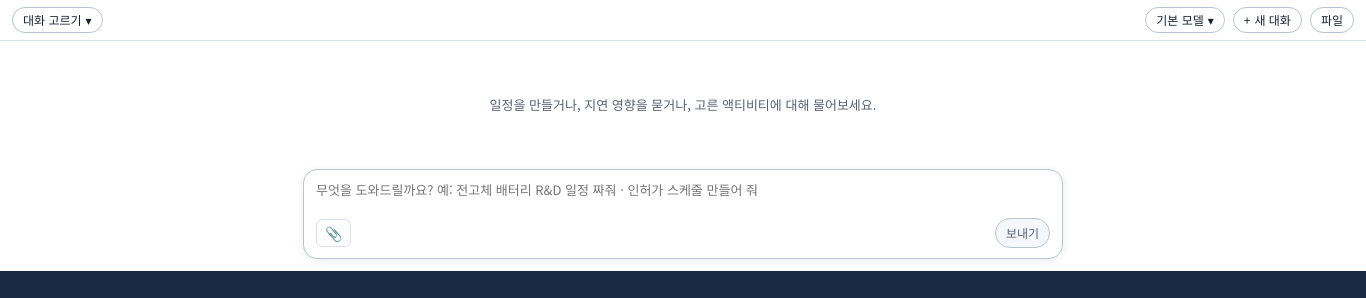
a dropped connection keeps what arrived and says so
Type "q" into the text box named "에이전트에게 요청".
click(683, 199); type("q")  # box [316,180,1050,218]
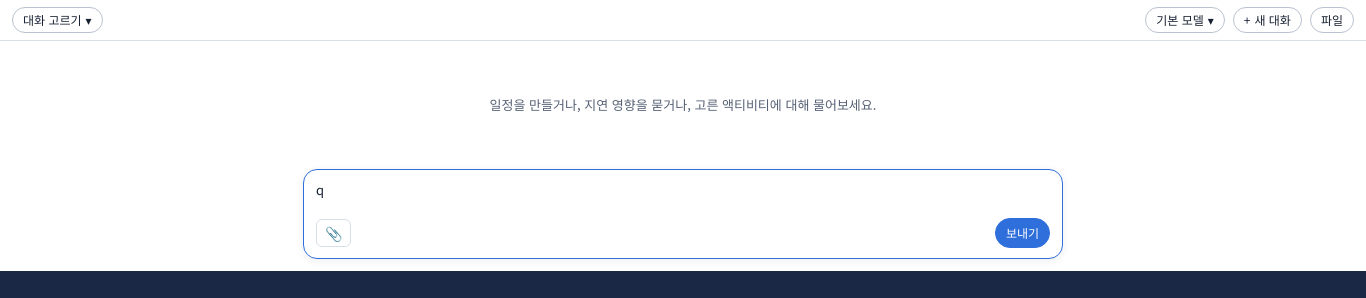
Click the button "보내기".
click(1022, 233)  # box [995,218,1050,248]
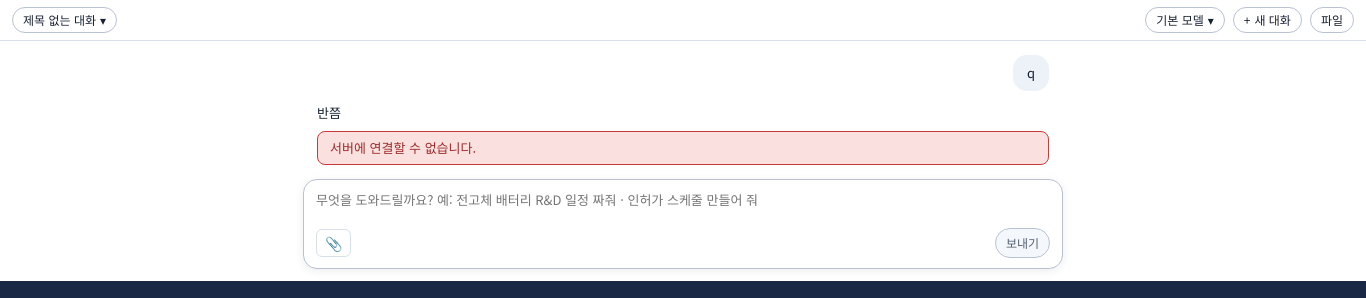
Check: the button "보내기" is shown, box [995,228,1050,258]
Check: the text "반쯤" is shown, box [317,103,341,122]
Check: the text "서버에 연결할 수 없습니다." is shown, box [330,138,476,158]
